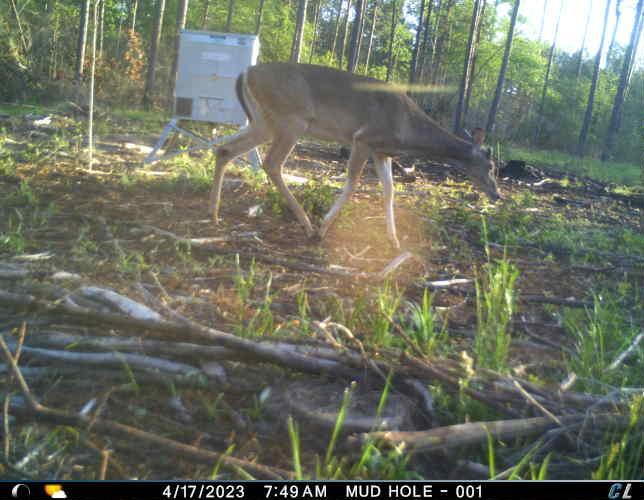Deer: (209, 58, 505, 255)
